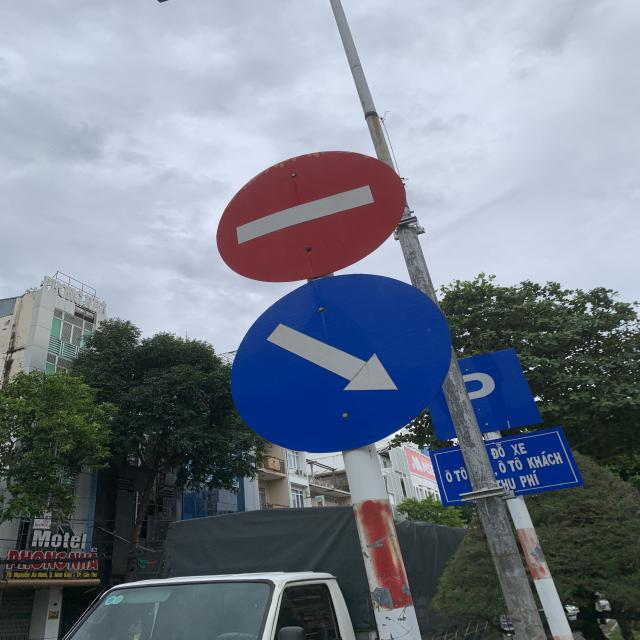Cam_Di_Nguoc_Chieu: (214, 149, 408, 284)
Chi_Huong_Di_Phai: (225, 272, 455, 455)
